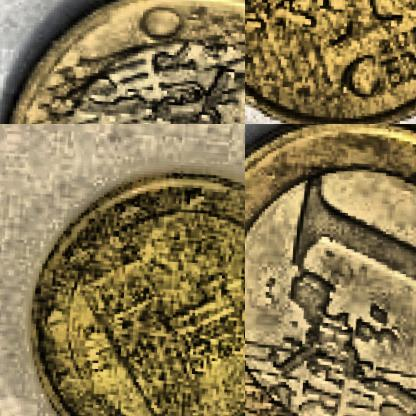coin: (20, 163, 244, 415), (245, 124, 415, 415), (0, 0, 244, 123), (245, 0, 415, 123)
